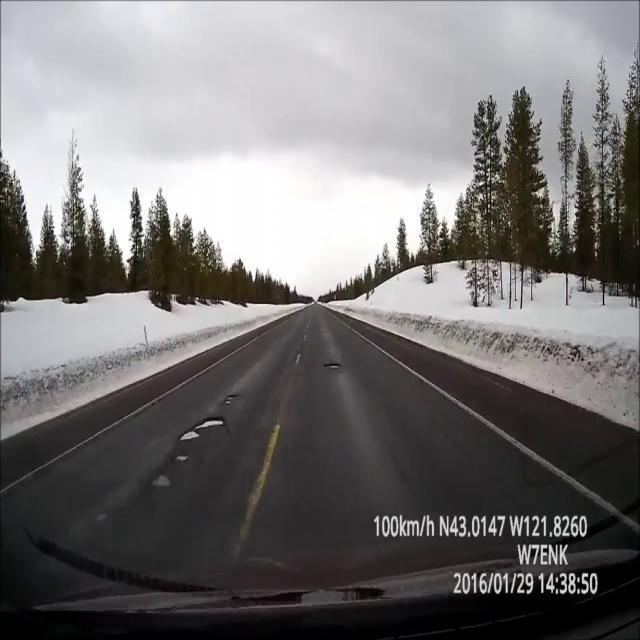pothole: (180, 416, 226, 443), (225, 393, 240, 405), (322, 362, 343, 370)
